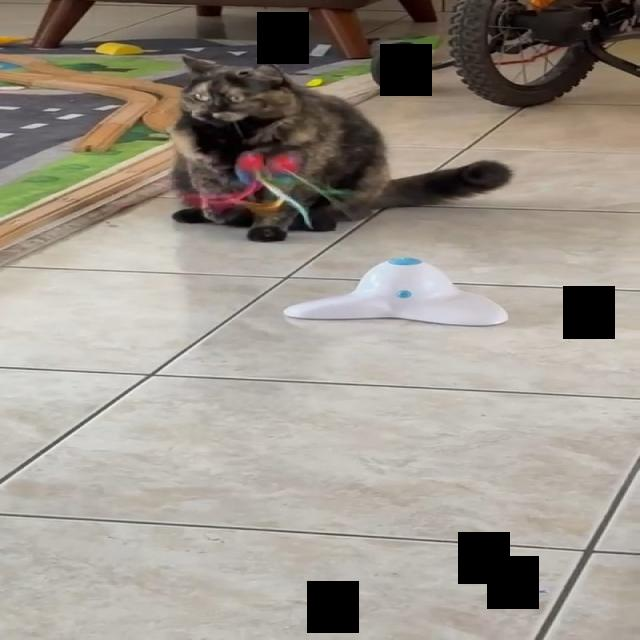authorized: (168, 54, 512, 242)
